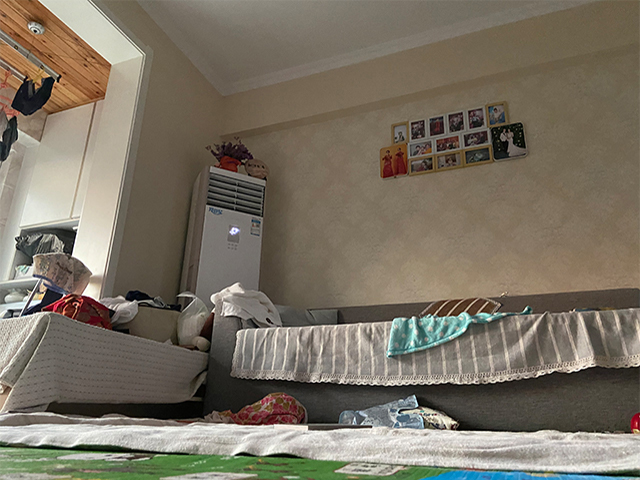sofa: (204, 293, 639, 434), (1, 312, 206, 415)
